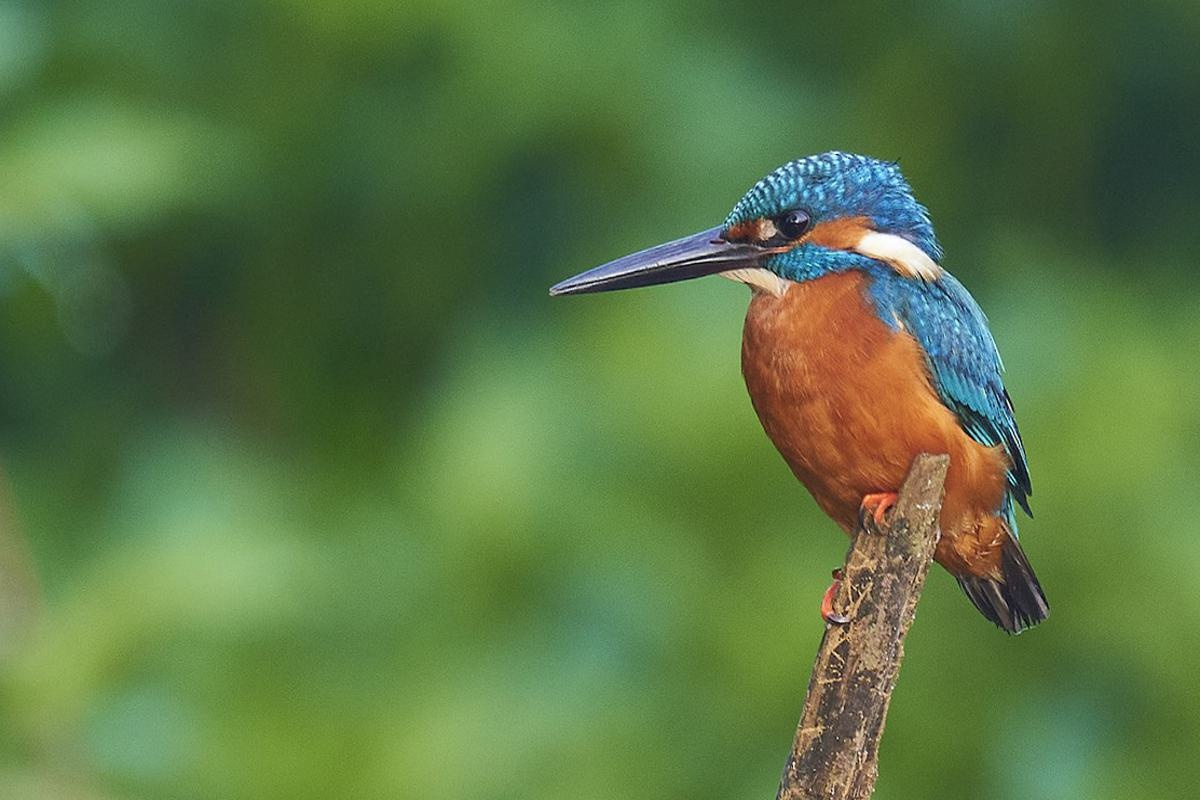kingfisher: (554, 133, 1060, 638)
